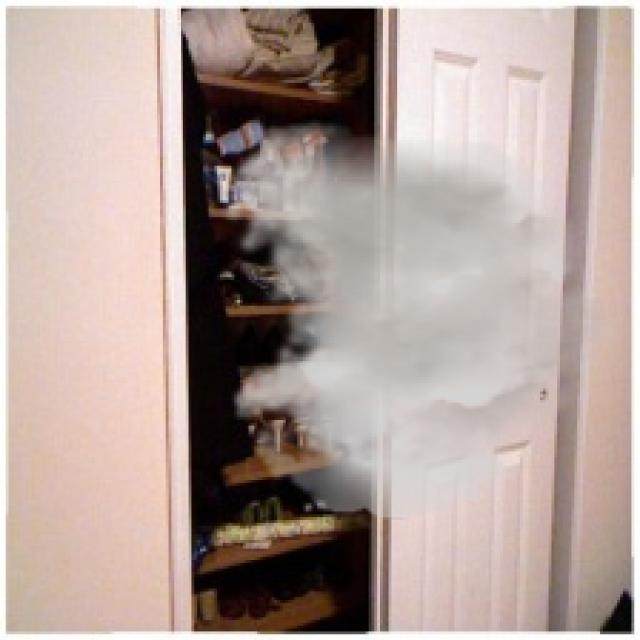smoke: (217, 120, 632, 520)
